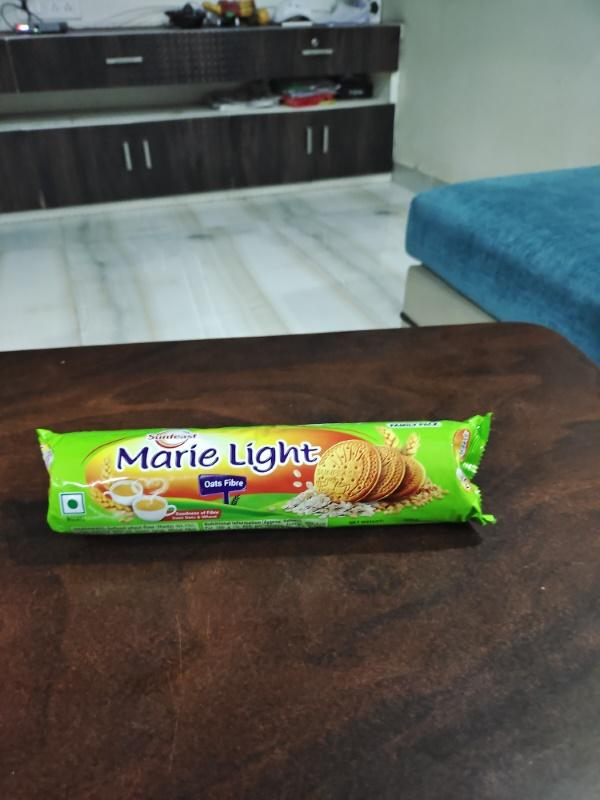MarieLight: (28, 425, 495, 544)
